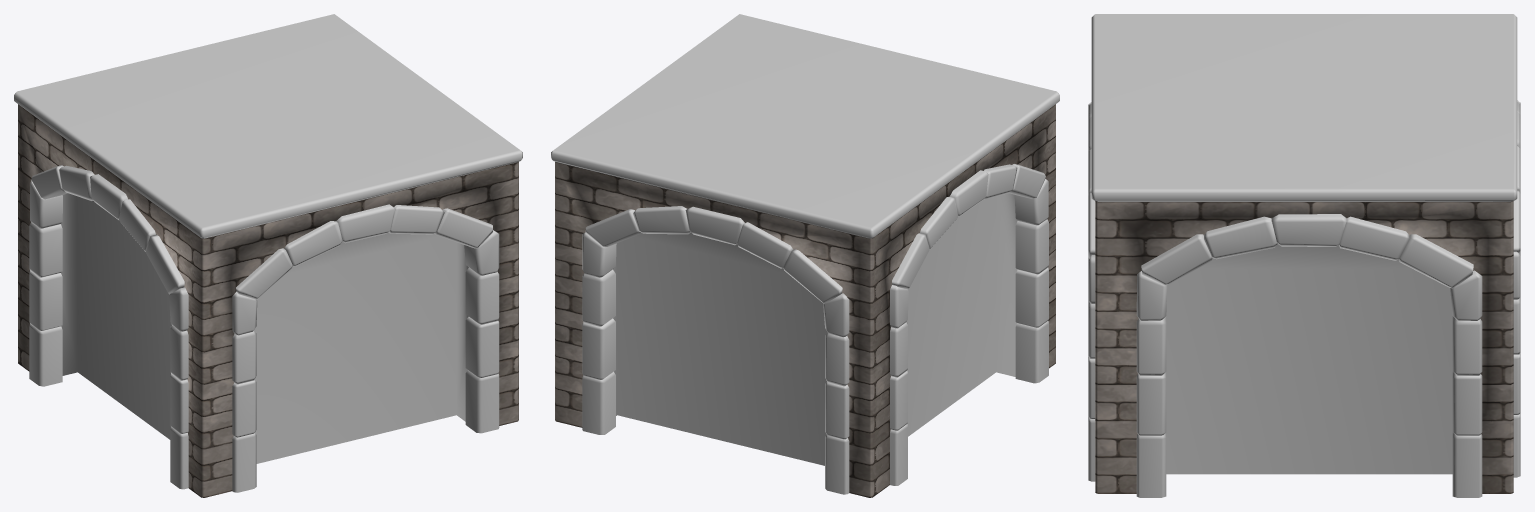
File: StonePlatformArches.fbx
3 views of the same model, side by side, from view 1: azimuth 30°, elevation 25°; view 2: azimuth 150°, elevation 25°; view 3: azimuth 270°, elevation 25° (orthographic). The views are drawn at different scales.
Visible parts, largest first — view 1: Mesh; view 2: Mesh; view 3: Mesh.
Boxes of the visible parts, bbox=[...] form: Mesh: bbox=[14, 14, 522, 497]; Mesh: bbox=[551, 14, 1059, 497]; Mesh: bbox=[1088, 14, 1520, 497].
Bounding box in the file's own units: 341 × 266 × 341.
